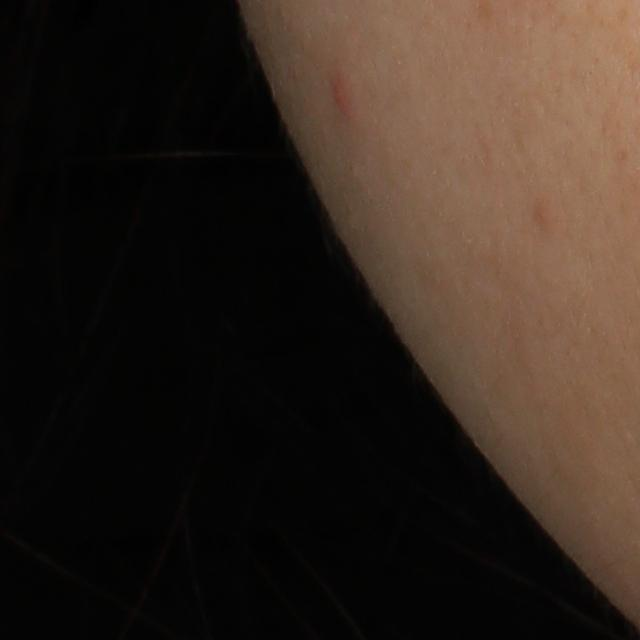papule: (330, 77, 355, 119)
